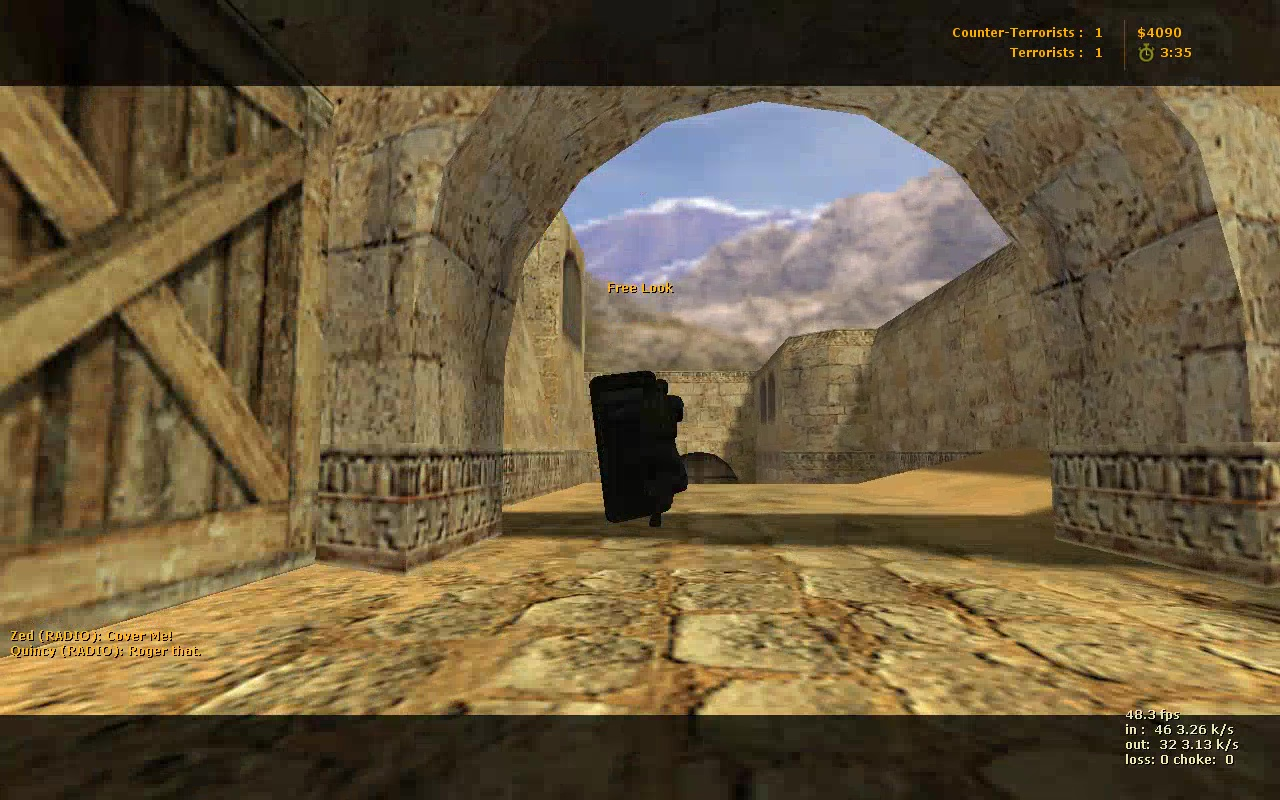ct: (593, 370, 688, 530)
